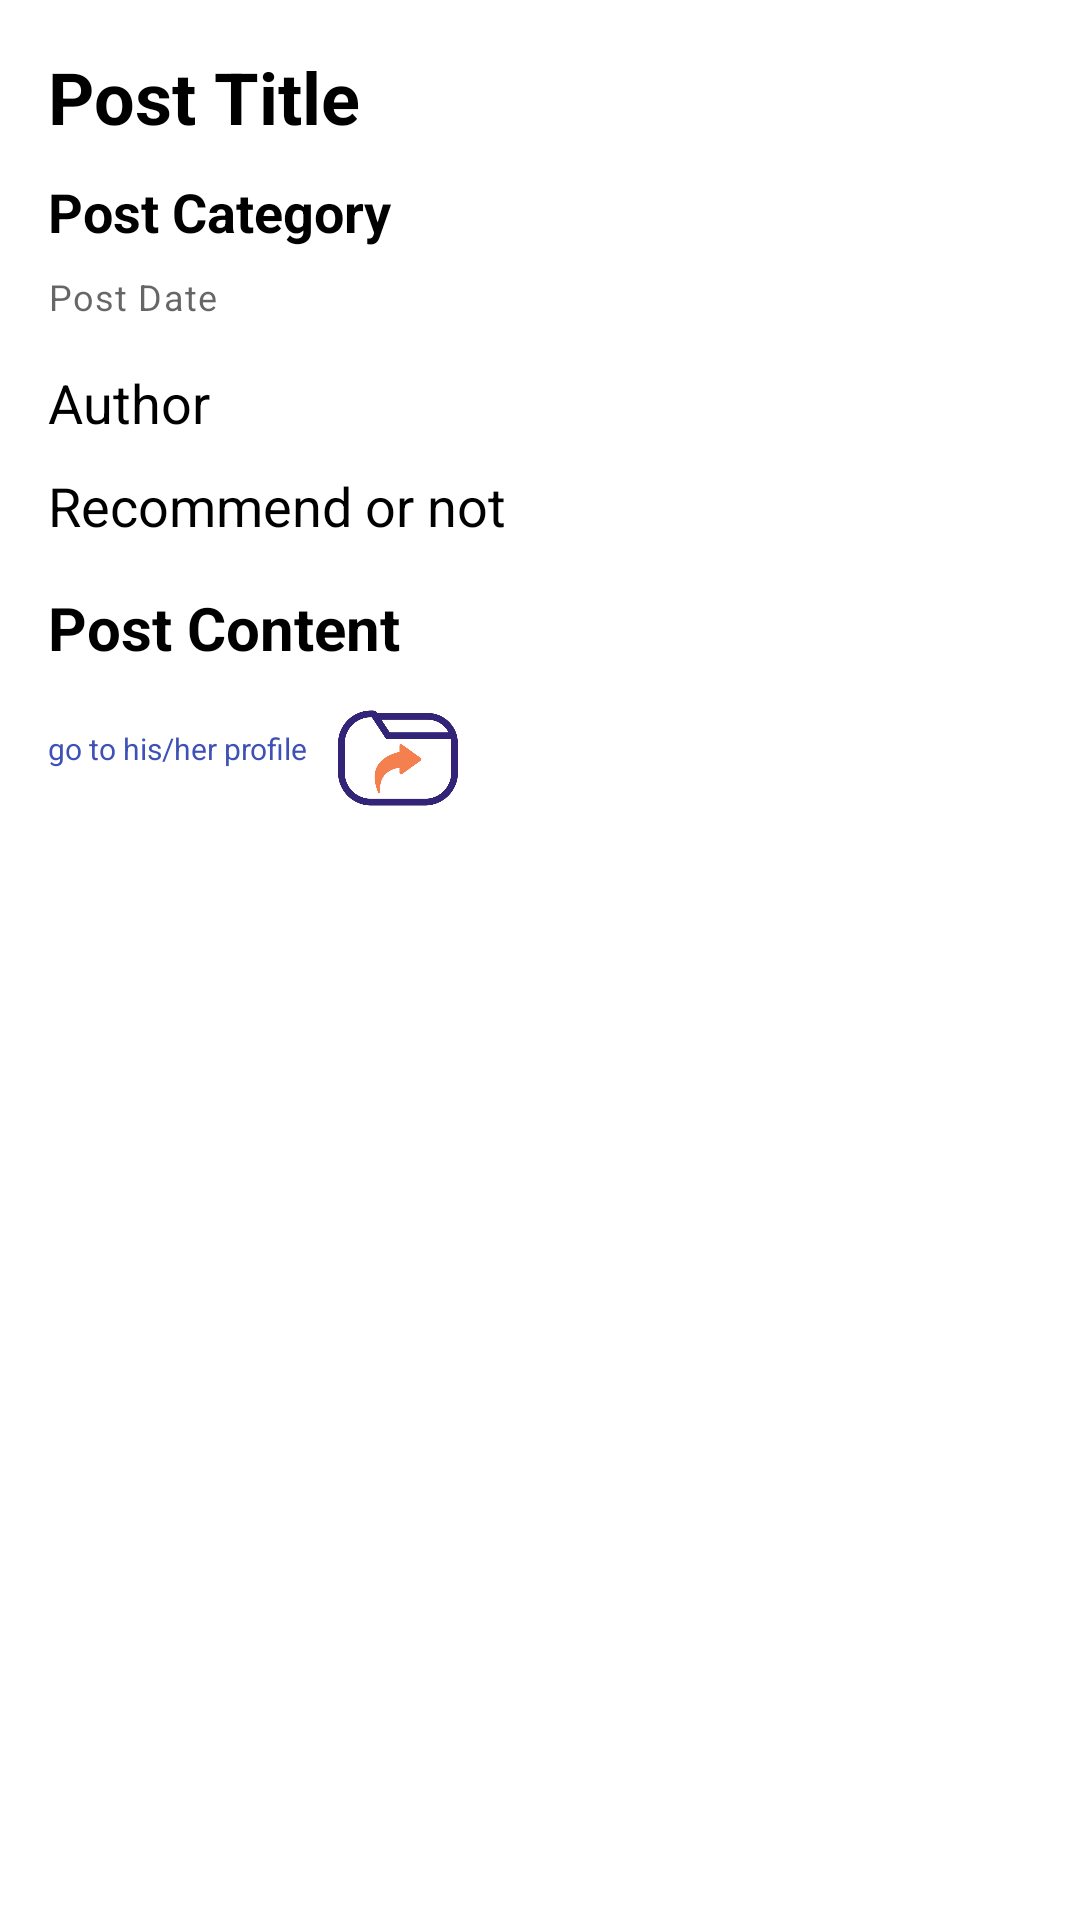

Screen size 1080×1920. Icon name, then its box in pixels as (x1, y1, x2, y2):
redirect: (338, 710, 458, 806)
